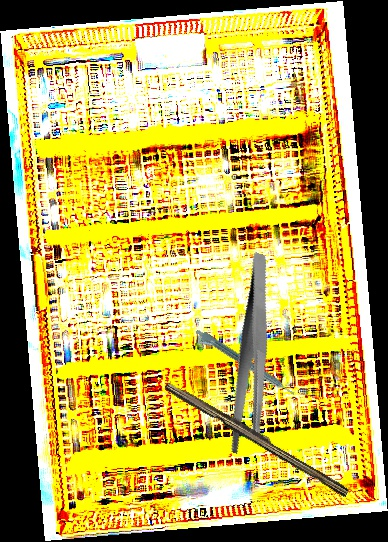Dressing Forceps: (188, 251, 318, 460)
Handpiece: (191, 327, 297, 402)
Scalpel Handle: (162, 378, 353, 498)
